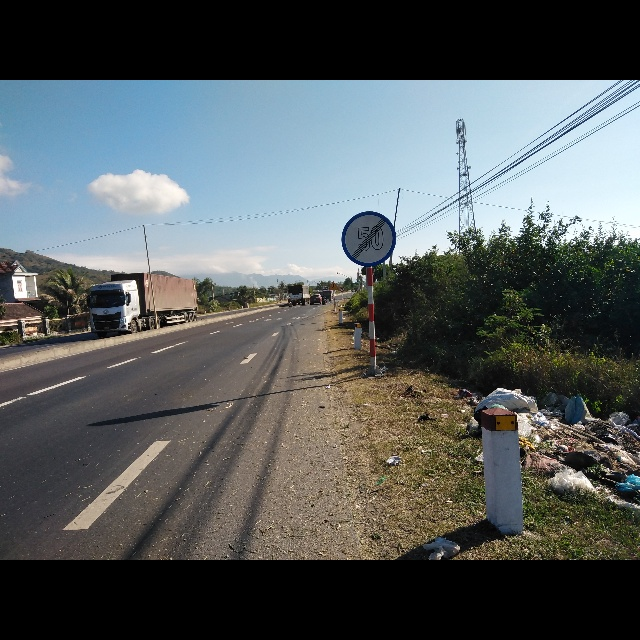Hết hạn chế tốc độ tối đa 50km/h: (339, 210, 396, 270)
